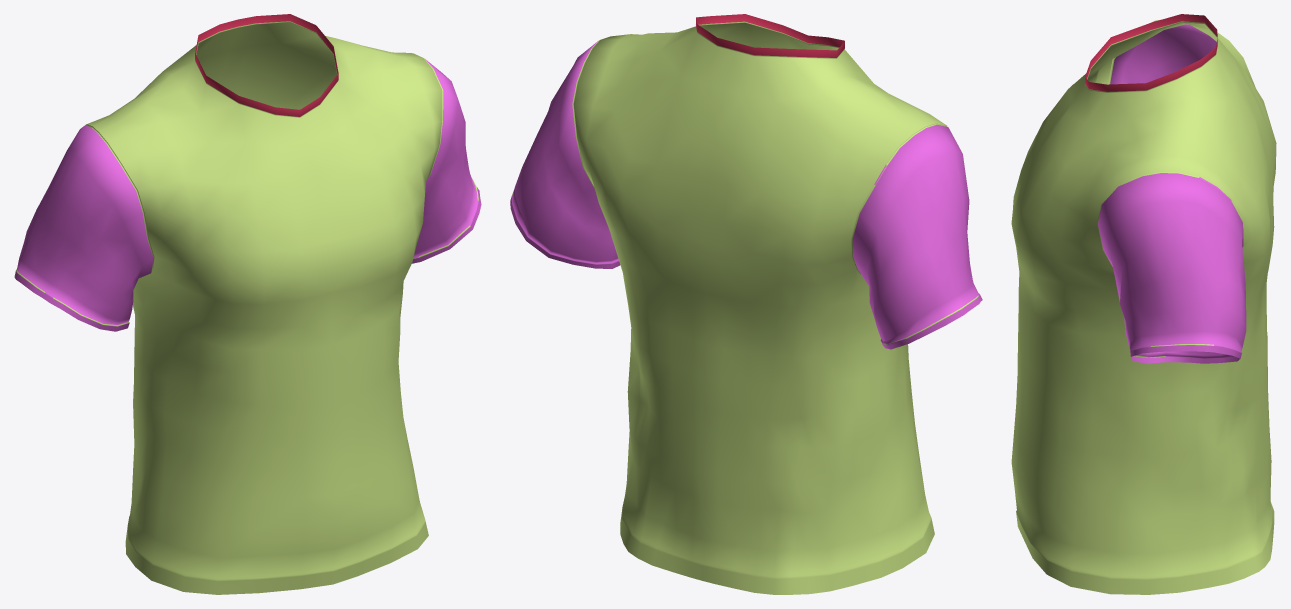
File: T-shirt.gltf
3 views of the same model, side by side, from view 1: azimuth 30°, elevation 25°; view 2: azimuth 150°, elevation 25°; view 3: azimuth 270°, elevation 25° (orthographic). The views are drawn at different scales.
Parts seen in each view (by area): view 1: Plane_Plane.008; view 2: Plane_Plane.008; view 3: Plane_Plane.008.
Boxes of the visible parts, x1=… form: Plane_Plane.008: x1=14, y1=14, x2=481, y2=594; Plane_Plane.008: x1=510, y1=14, x2=982, y2=594; Plane_Plane.008: x1=1011, y1=14, x2=1276, y2=594.
Bounding box in the file's own units: 1.02 × 1.09 × 0.5274.
